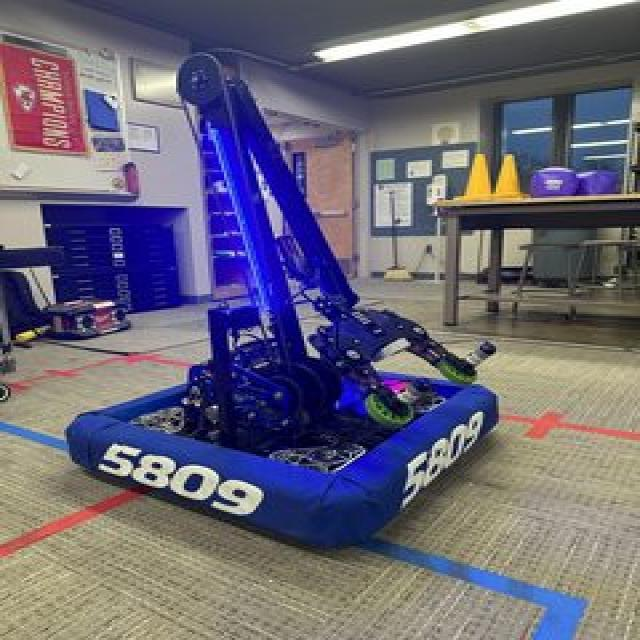robot: (42, 62, 520, 568)
